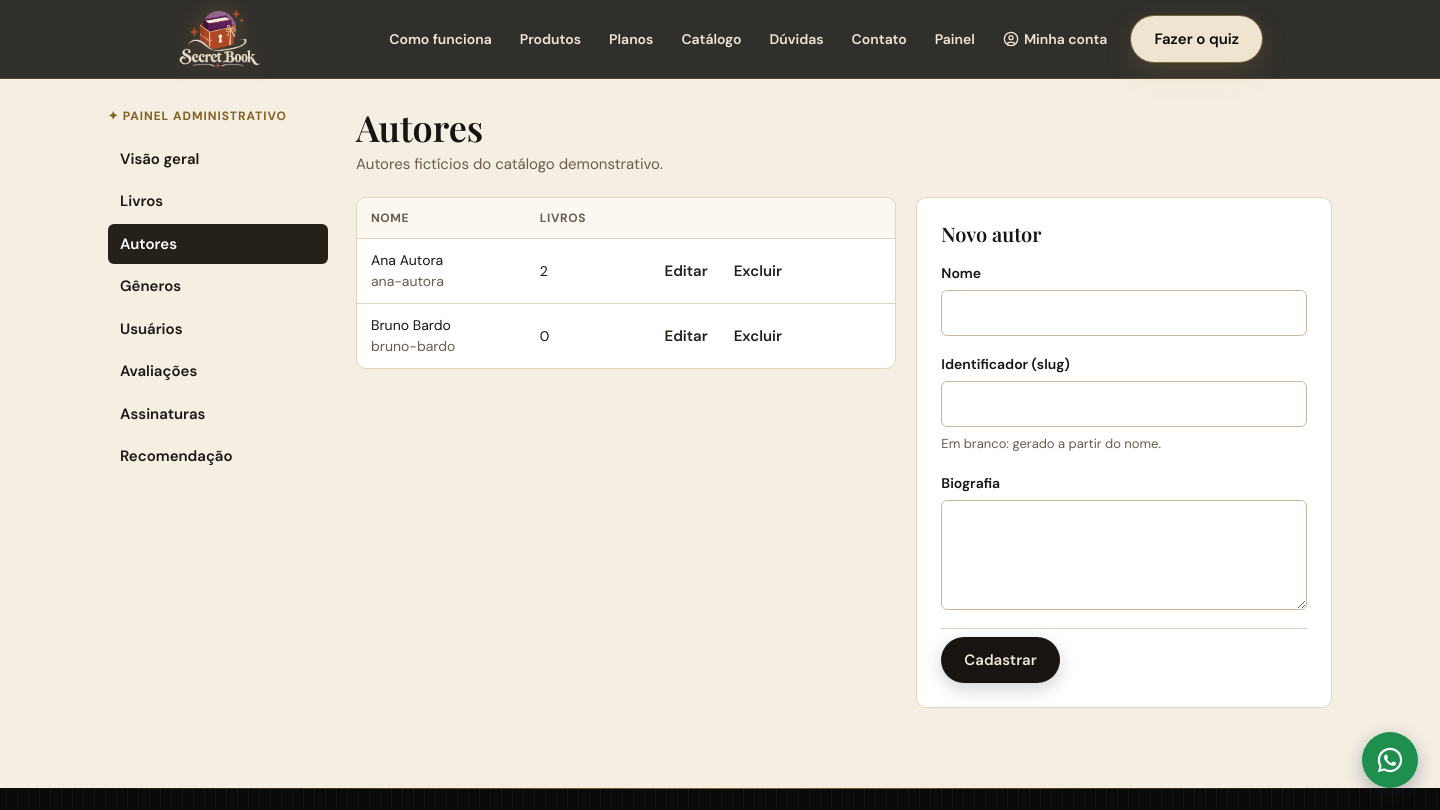
Test: Painel: autores › edita um autor com o formulário preenchido
Click the button "Editar" in the row of "Ana Autora". click: (686, 271)
box: left=652, top=251, right=721, bottom=291
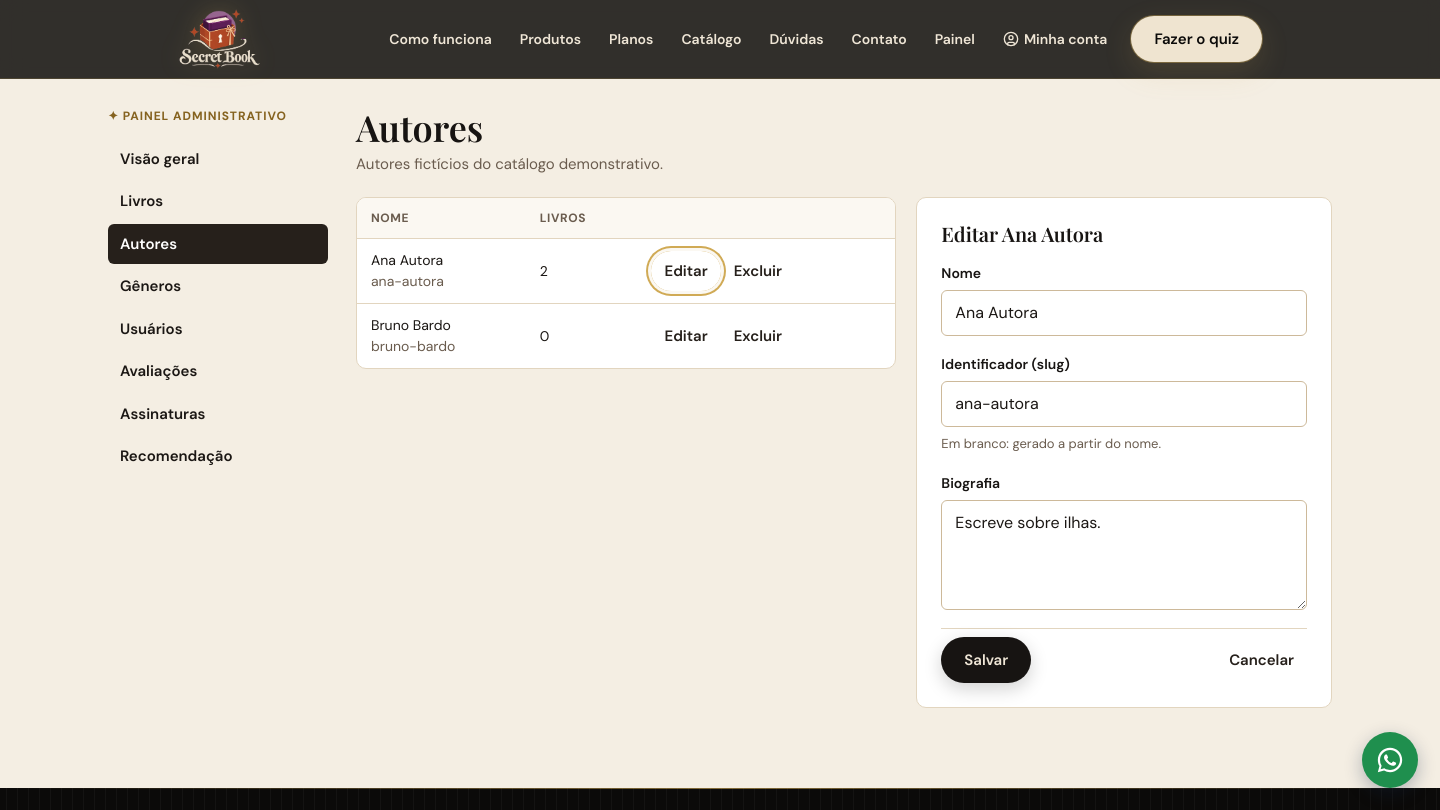
Expected: the heading "Editar Ana Autora" is shown, left=941, top=220, right=1103, bottom=247
Expected: the field labelled "Identificador (slug)" holds "ana-autora", left=941, top=381, right=1307, bottom=427
Replace the text in the text box labelled "Biografia" with "Nova biografia.". click: (1124, 555)
box: left=941, top=500, right=1307, bottom=610
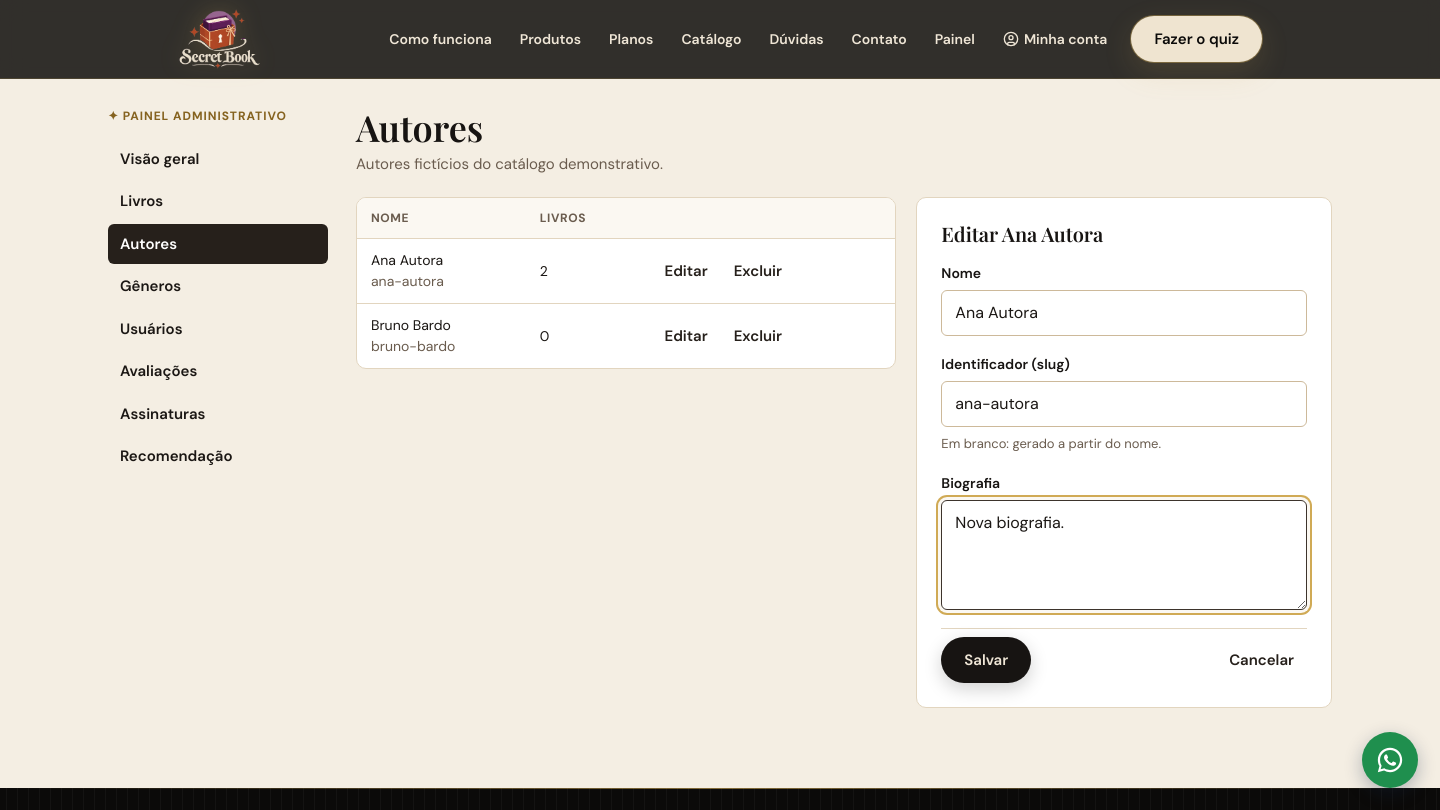
Click the button "Salvar". click: (986, 660)
box: left=941, top=637, right=1031, bottom=683
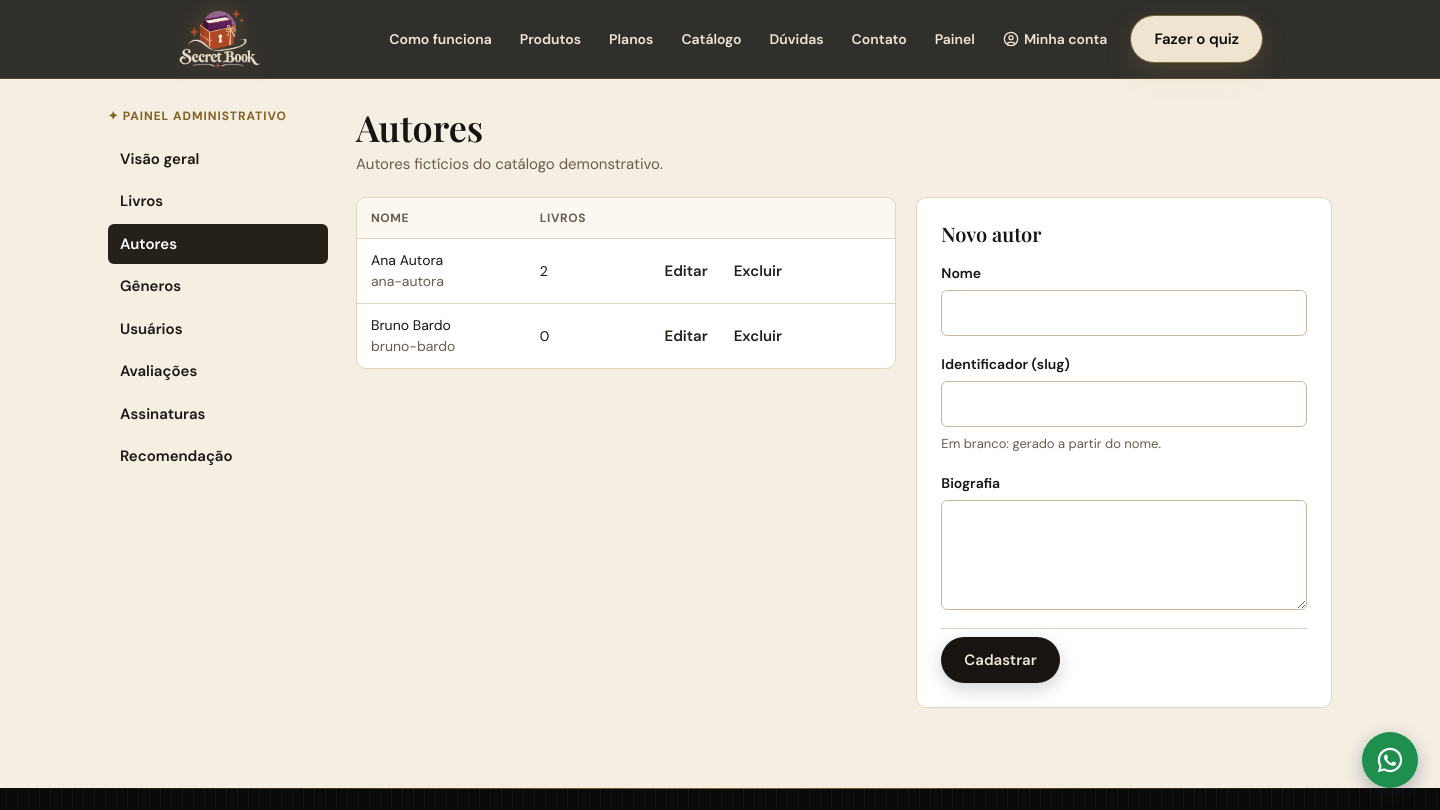
Expected: the form "Novo autor" is shown, left=916, top=197, right=1332, bottom=708
